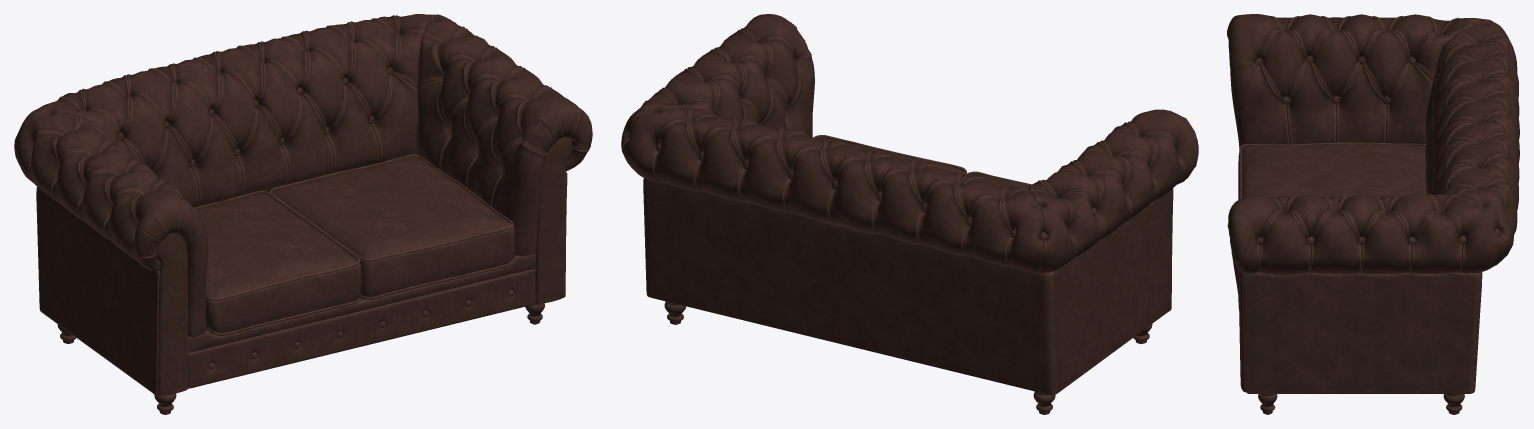
File: chesterfield-sofa.glb
3 renders of one model, left to right at view 1: azimuth 30°, elevation 25°; view 2: azimuth 150°, elevation 25°; view 3: azimuth 270°, elevation 25°, orthographic. The views are drawn at different scales.
Visible parts, largest first — view 1: sofa_geo, legs_geo4; view 2: sofa_geo, legs_geo4; view 3: sofa_geo, legs_geo4.
Part boxes in pixels (x1,y1,x2,y2): sofa_geo: [14, 14, 592, 395]; legs_geo4: [57, 303, 544, 414]; sofa_geo: [621, 14, 1198, 394]; legs_geo4: [664, 301, 1152, 414]; sofa_geo: [1227, 14, 1519, 393]; legs_geo4: [1258, 394, 1464, 414].
Bounding box in the file's own units: 2.13 × 1.03 × 1.23.
2 materials, 2 textured.
